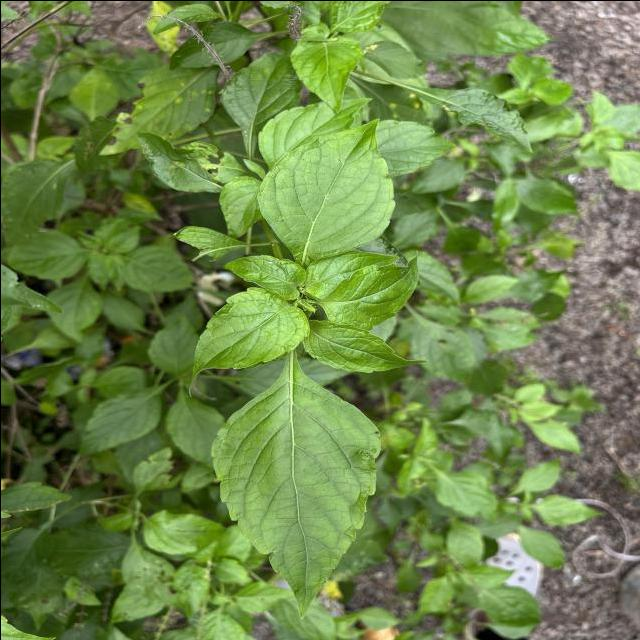Ocimum gratissimum: (205, 355, 384, 623), (250, 111, 396, 262), (182, 284, 312, 399), (313, 243, 426, 329)
